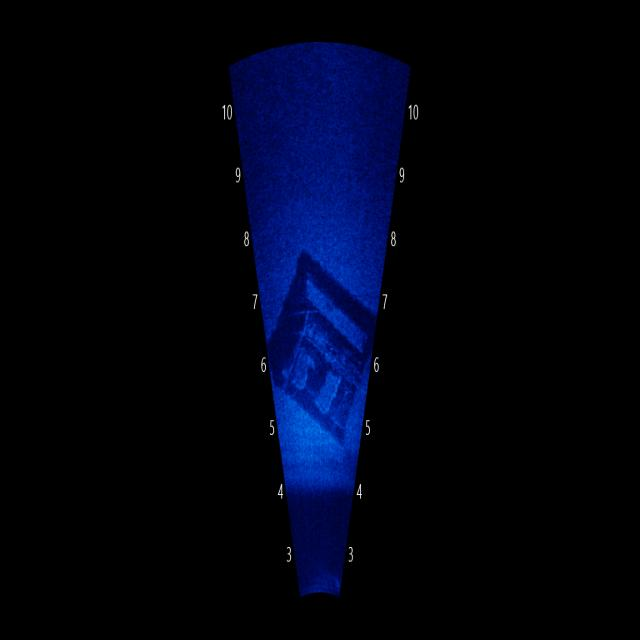square: (269, 241, 379, 460)
